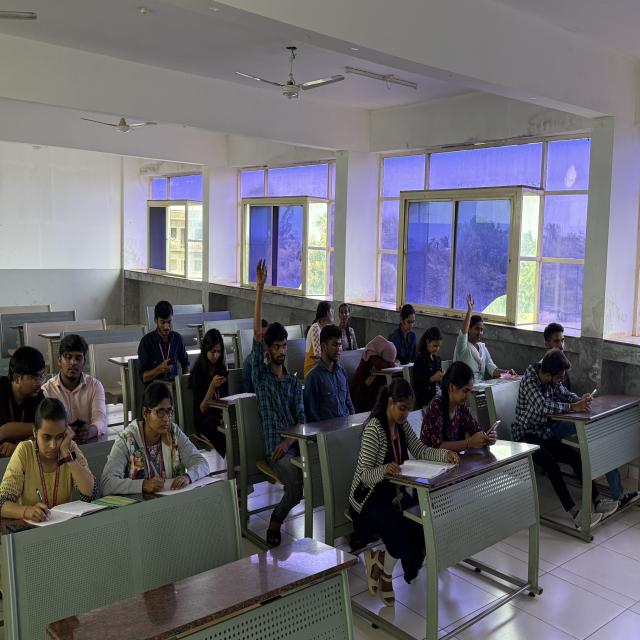Hand Rising: (251, 252, 313, 453), (458, 290, 508, 372)
Reading: (348, 377, 466, 498), (386, 302, 426, 360)
Sleeping: (350, 333, 404, 386)
Using Phone: (511, 339, 608, 426), (422, 358, 503, 458), (51, 334, 111, 442), (188, 322, 241, 421), (134, 297, 190, 389), (412, 322, 453, 392)
Writing: (96, 379, 226, 496), (0, 396, 98, 528)
